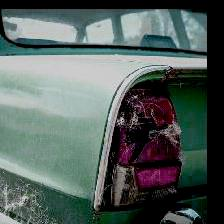tail_lamp: (97, 65, 180, 215)
